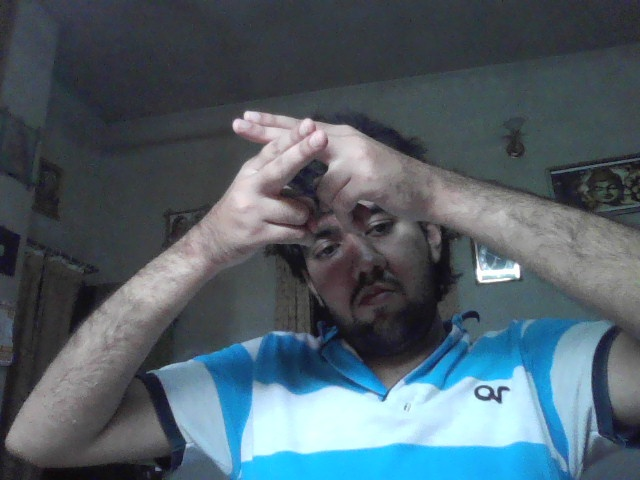Name: (213, 110, 416, 256)
